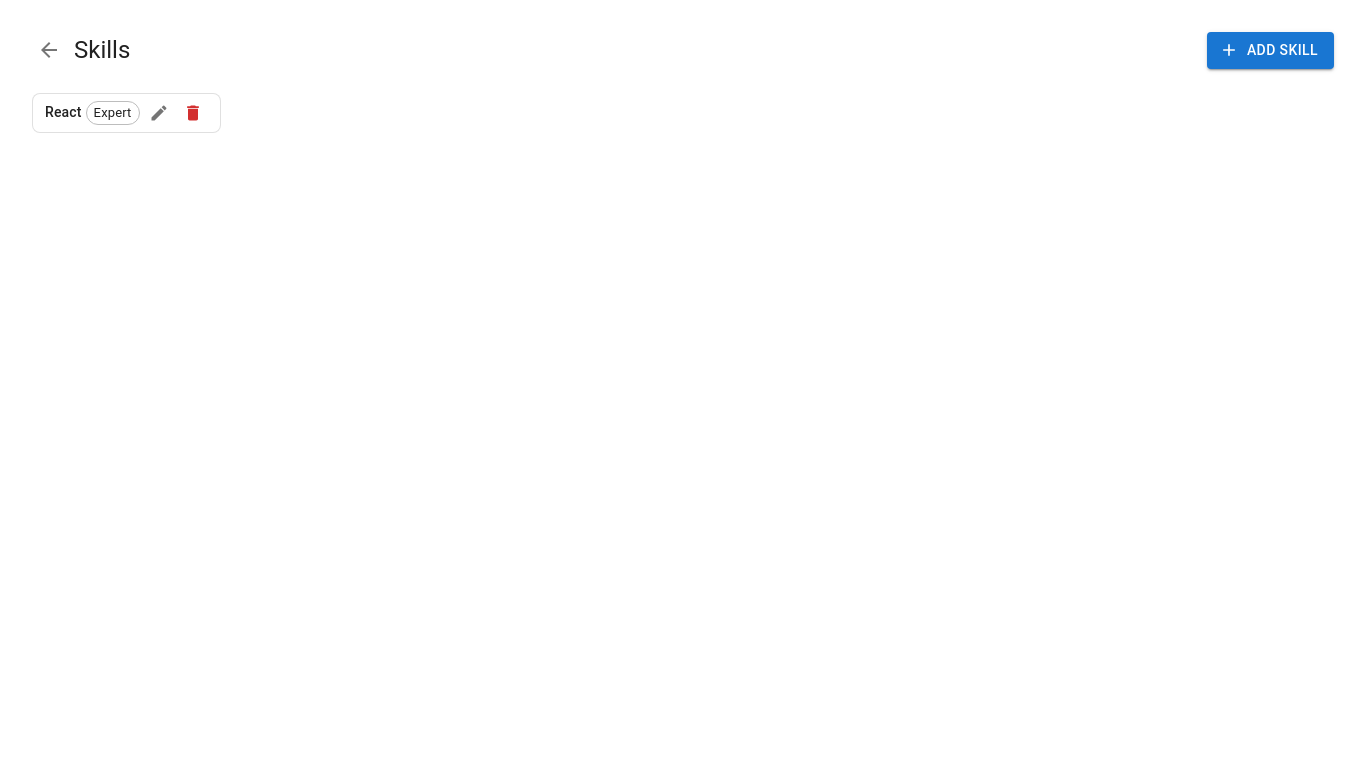
Test: SkillsPage › deletes a skill after confirming
This screenshot has width=1366, height=768.
Click the 4th button at (192, 112), box left=178, top=98, right=208, bottom=128
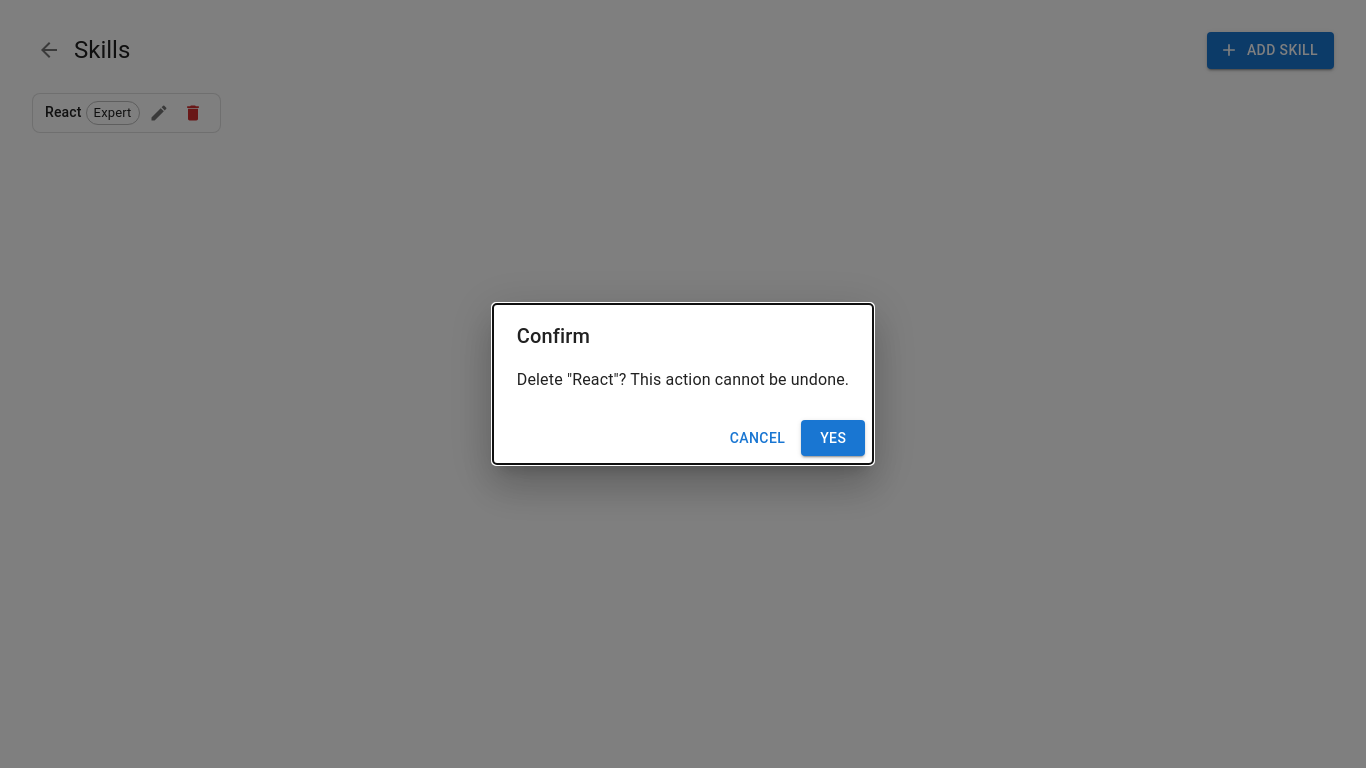
Now the text "Delete \"React\"? This action cannot be undone." is shown, box left=517, top=370, right=849, bottom=389
Click the button "Yes" at (833, 438), box left=801, top=420, right=865, bottom=456
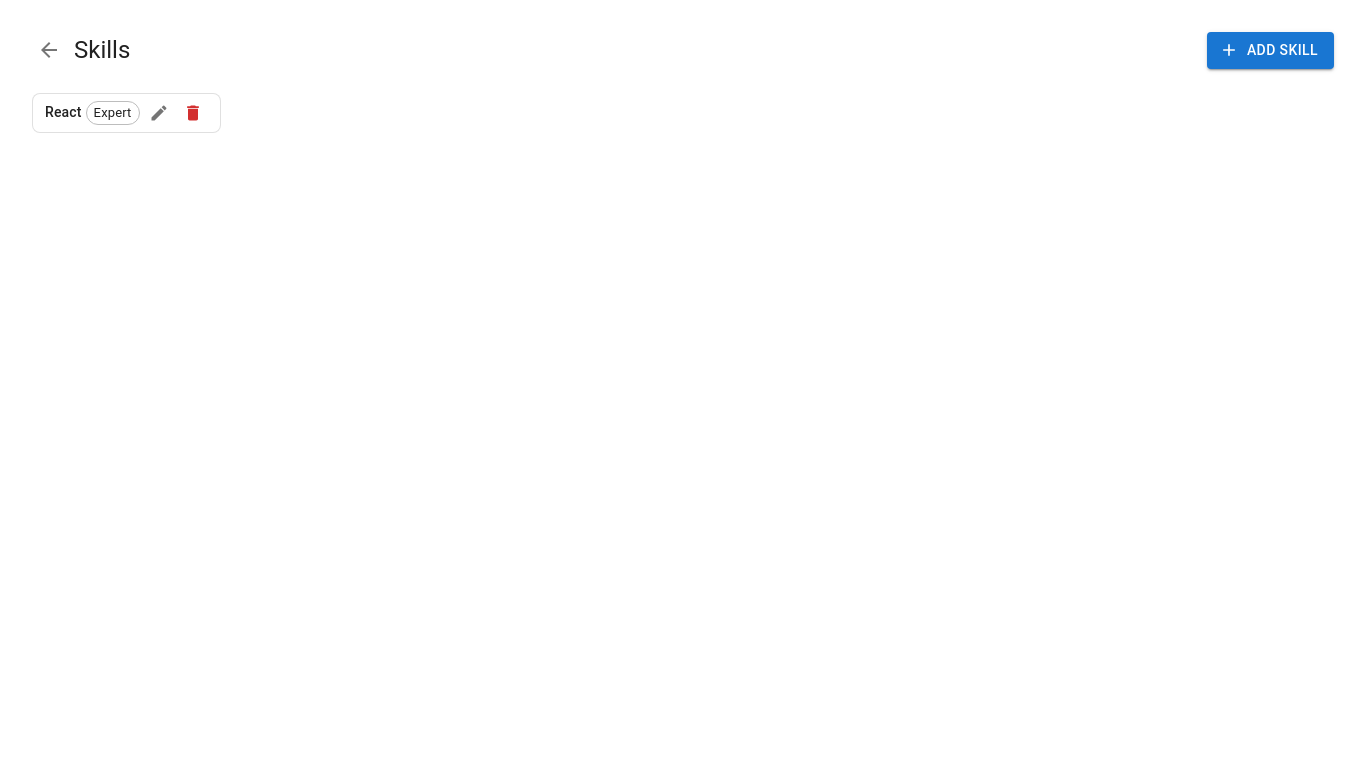
Now the text "Delete \"React\"? This action cannot be undone." is gone
